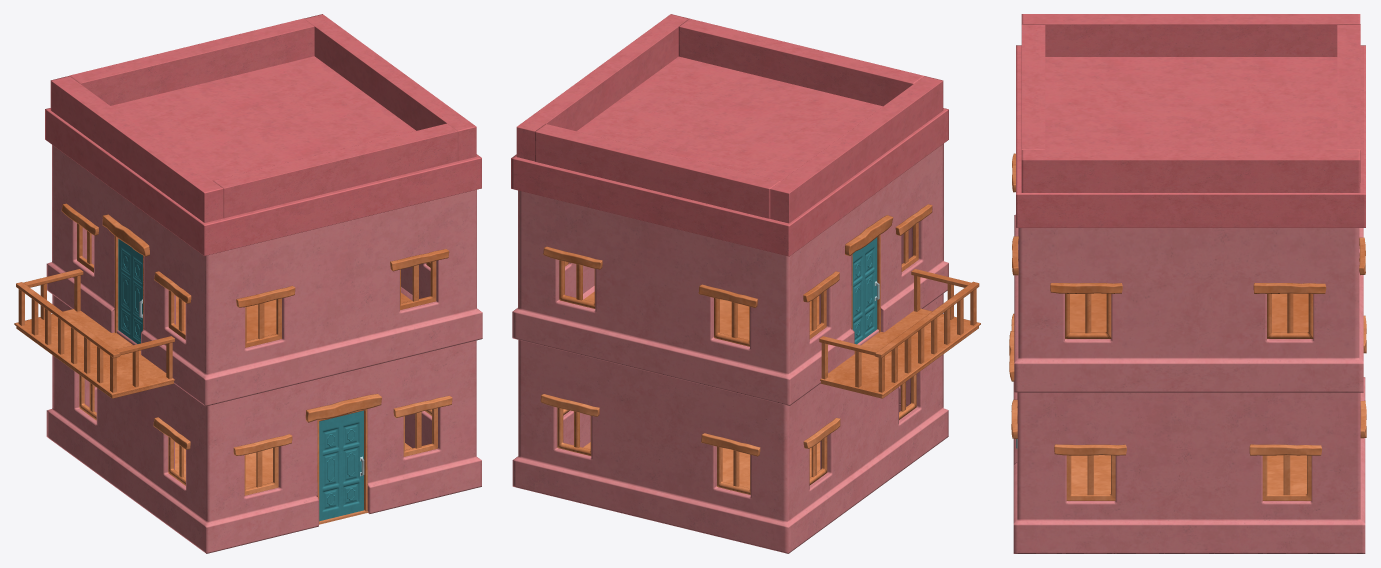
Rendered from stylilzed_building_v4.fbx.
The picture shows the model from 3 angles, left to right: view 1: azimuth 30°, elevation 25°; view 2: azimuth 150°, elevation 25°; view 3: azimuth 270°, elevation 25°; orthographic projection. The views are drawn at different scales.
Visible parts, largest first — view 1: stylized_house_v4_top, stylized_house_v4_roof, stylized_house_v4_Bottom; view 2: stylized_house_v4_top, stylized_house_v4_roof, stylized_house_v4_Bottom; view 3: stylized_house_v4_roof, stylized_house_v4_top, stylized_house_v4_Bottom.
Boxes of the visible parts, x1=… form: stylized_house_v4_top: x1=14, y1=145, x2=482, y2=406; stylized_house_v4_roof: x1=45, y1=14, x2=481, y2=255; stylized_house_v4_Bottom: x1=46, y1=287, x2=481, y2=553; stylized_house_v4_top: x1=512, y1=143, x2=980, y2=405; stylized_house_v4_roof: x1=511, y1=14, x2=948, y2=256; stylized_house_v4_Bottom: x1=512, y1=286, x2=948, y2=553; stylized_house_v4_roof: x1=1016, y1=14, x2=1365, y2=227; stylized_house_v4_top: x1=1012, y1=153, x2=1365, y2=392; stylized_house_v4_Bottom: x1=1009, y1=313, x2=1366, y2=553.
Size of the model in its own units: 509 by 510 by 421.
3 materials, 3 textured.
